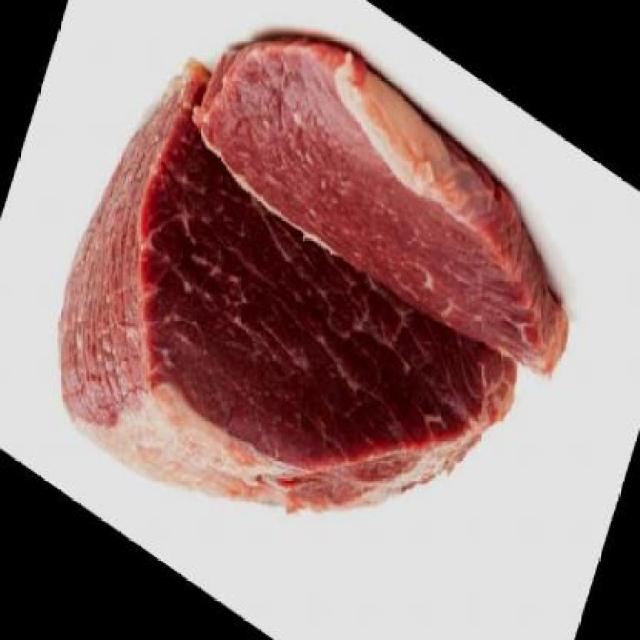beef: (27, 0, 607, 638)
